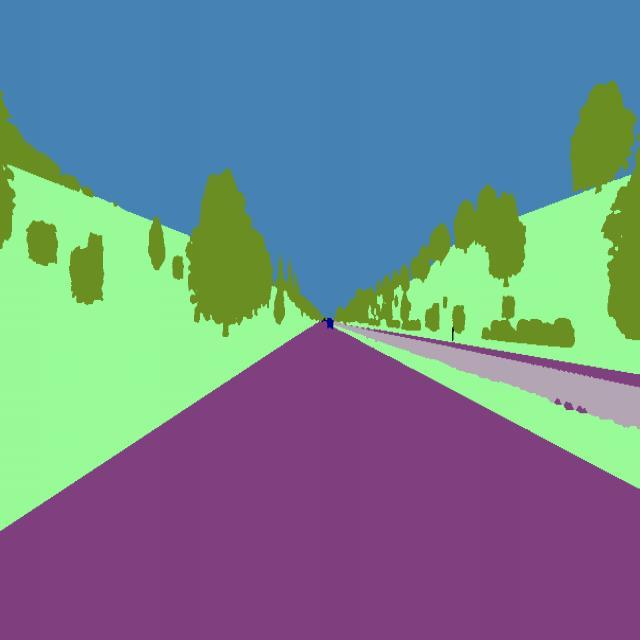safe: (325, 310, 336, 333)
